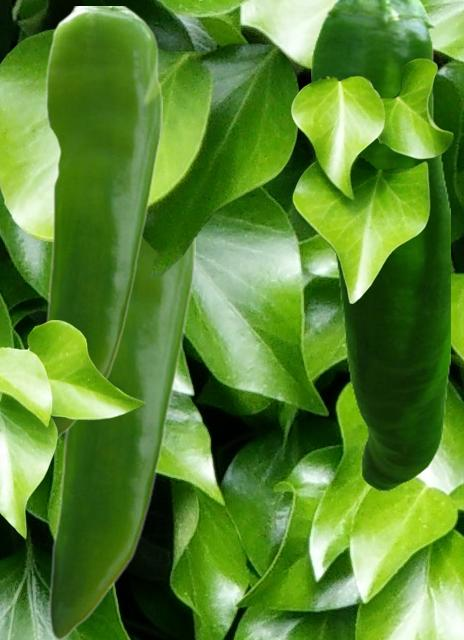green_chili: (311, 0, 449, 490), (48, 239, 194, 638), (43, 6, 161, 439)
